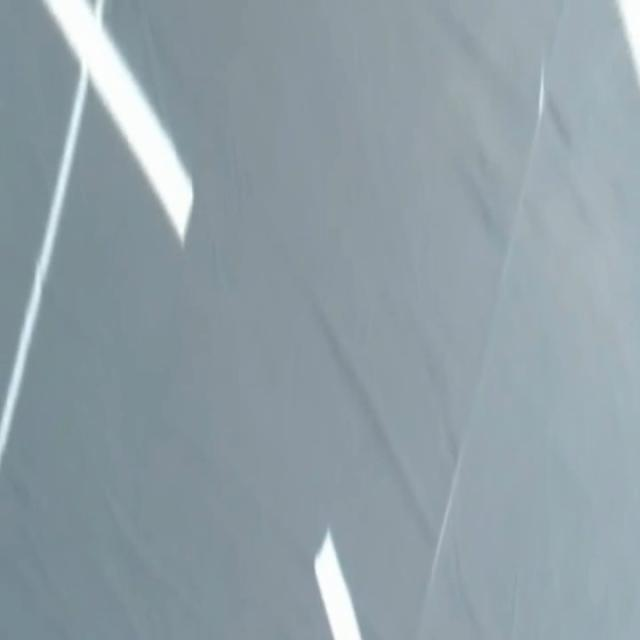center: (44, 0, 193, 243), (315, 530, 361, 639)
right: (617, 0, 639, 84)
